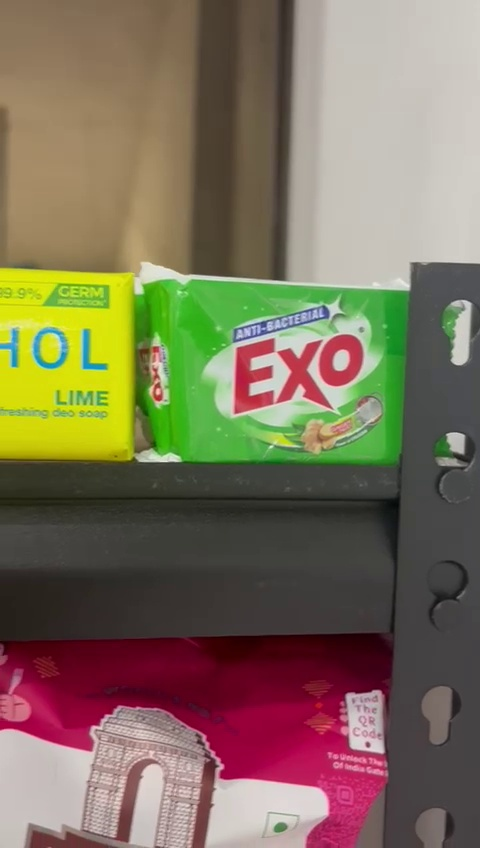Exo Soap: (146, 274, 405, 455)
